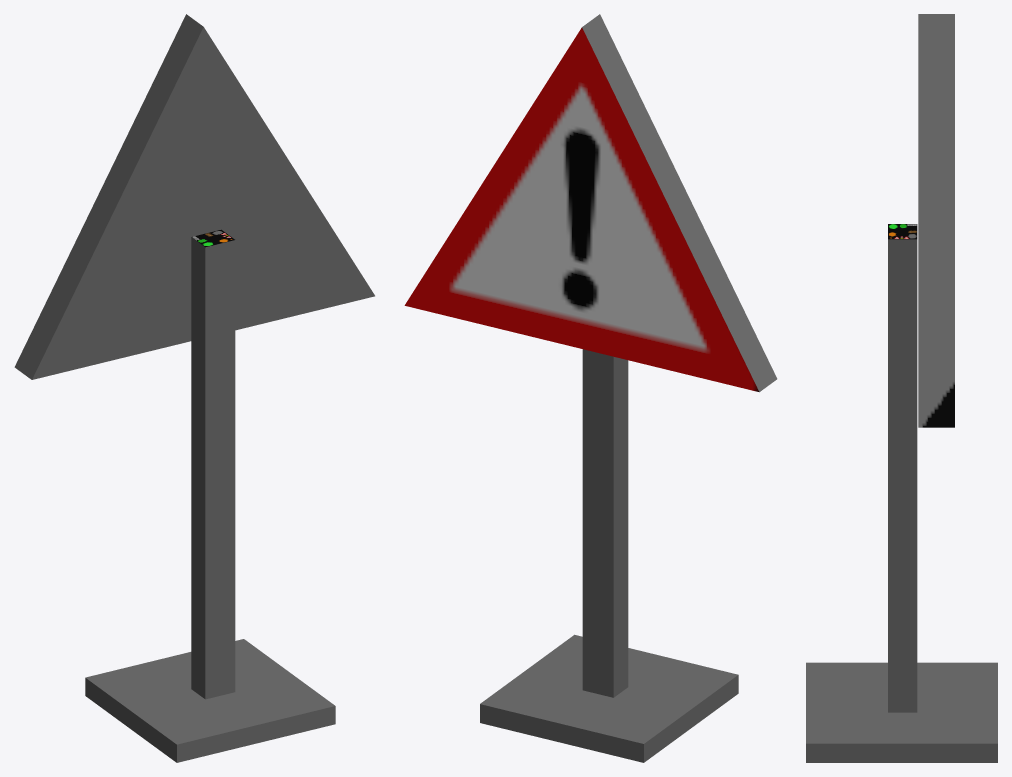
File: RaceSign1.fbx
The picture shows the model from 3 angles, left to right: view 1: azimuth 30°, elevation 25°; view 2: azimuth 150°, elevation 25°; view 3: azimuth 270°, elevation 25°; orthographic projection. The views are drawn at different scales.
Visible parts, largest first — view 1: Dikkat; view 2: Dikkat; view 3: Dikkat.
Part boxes in pixels (x1,y1,x2,y2): Dikkat: (14, 14, 374, 762); Dikkat: (404, 14, 777, 762); Dikkat: (806, 14, 997, 762).
Size of the model in its own units: 1.73 by 3.26 by 0.8.
